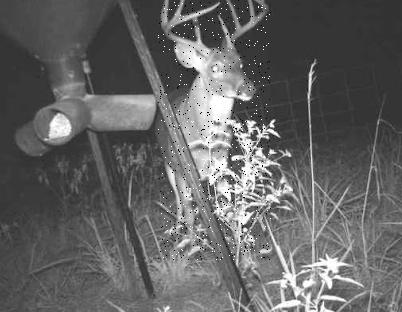Deer: (158, 0, 271, 260)
